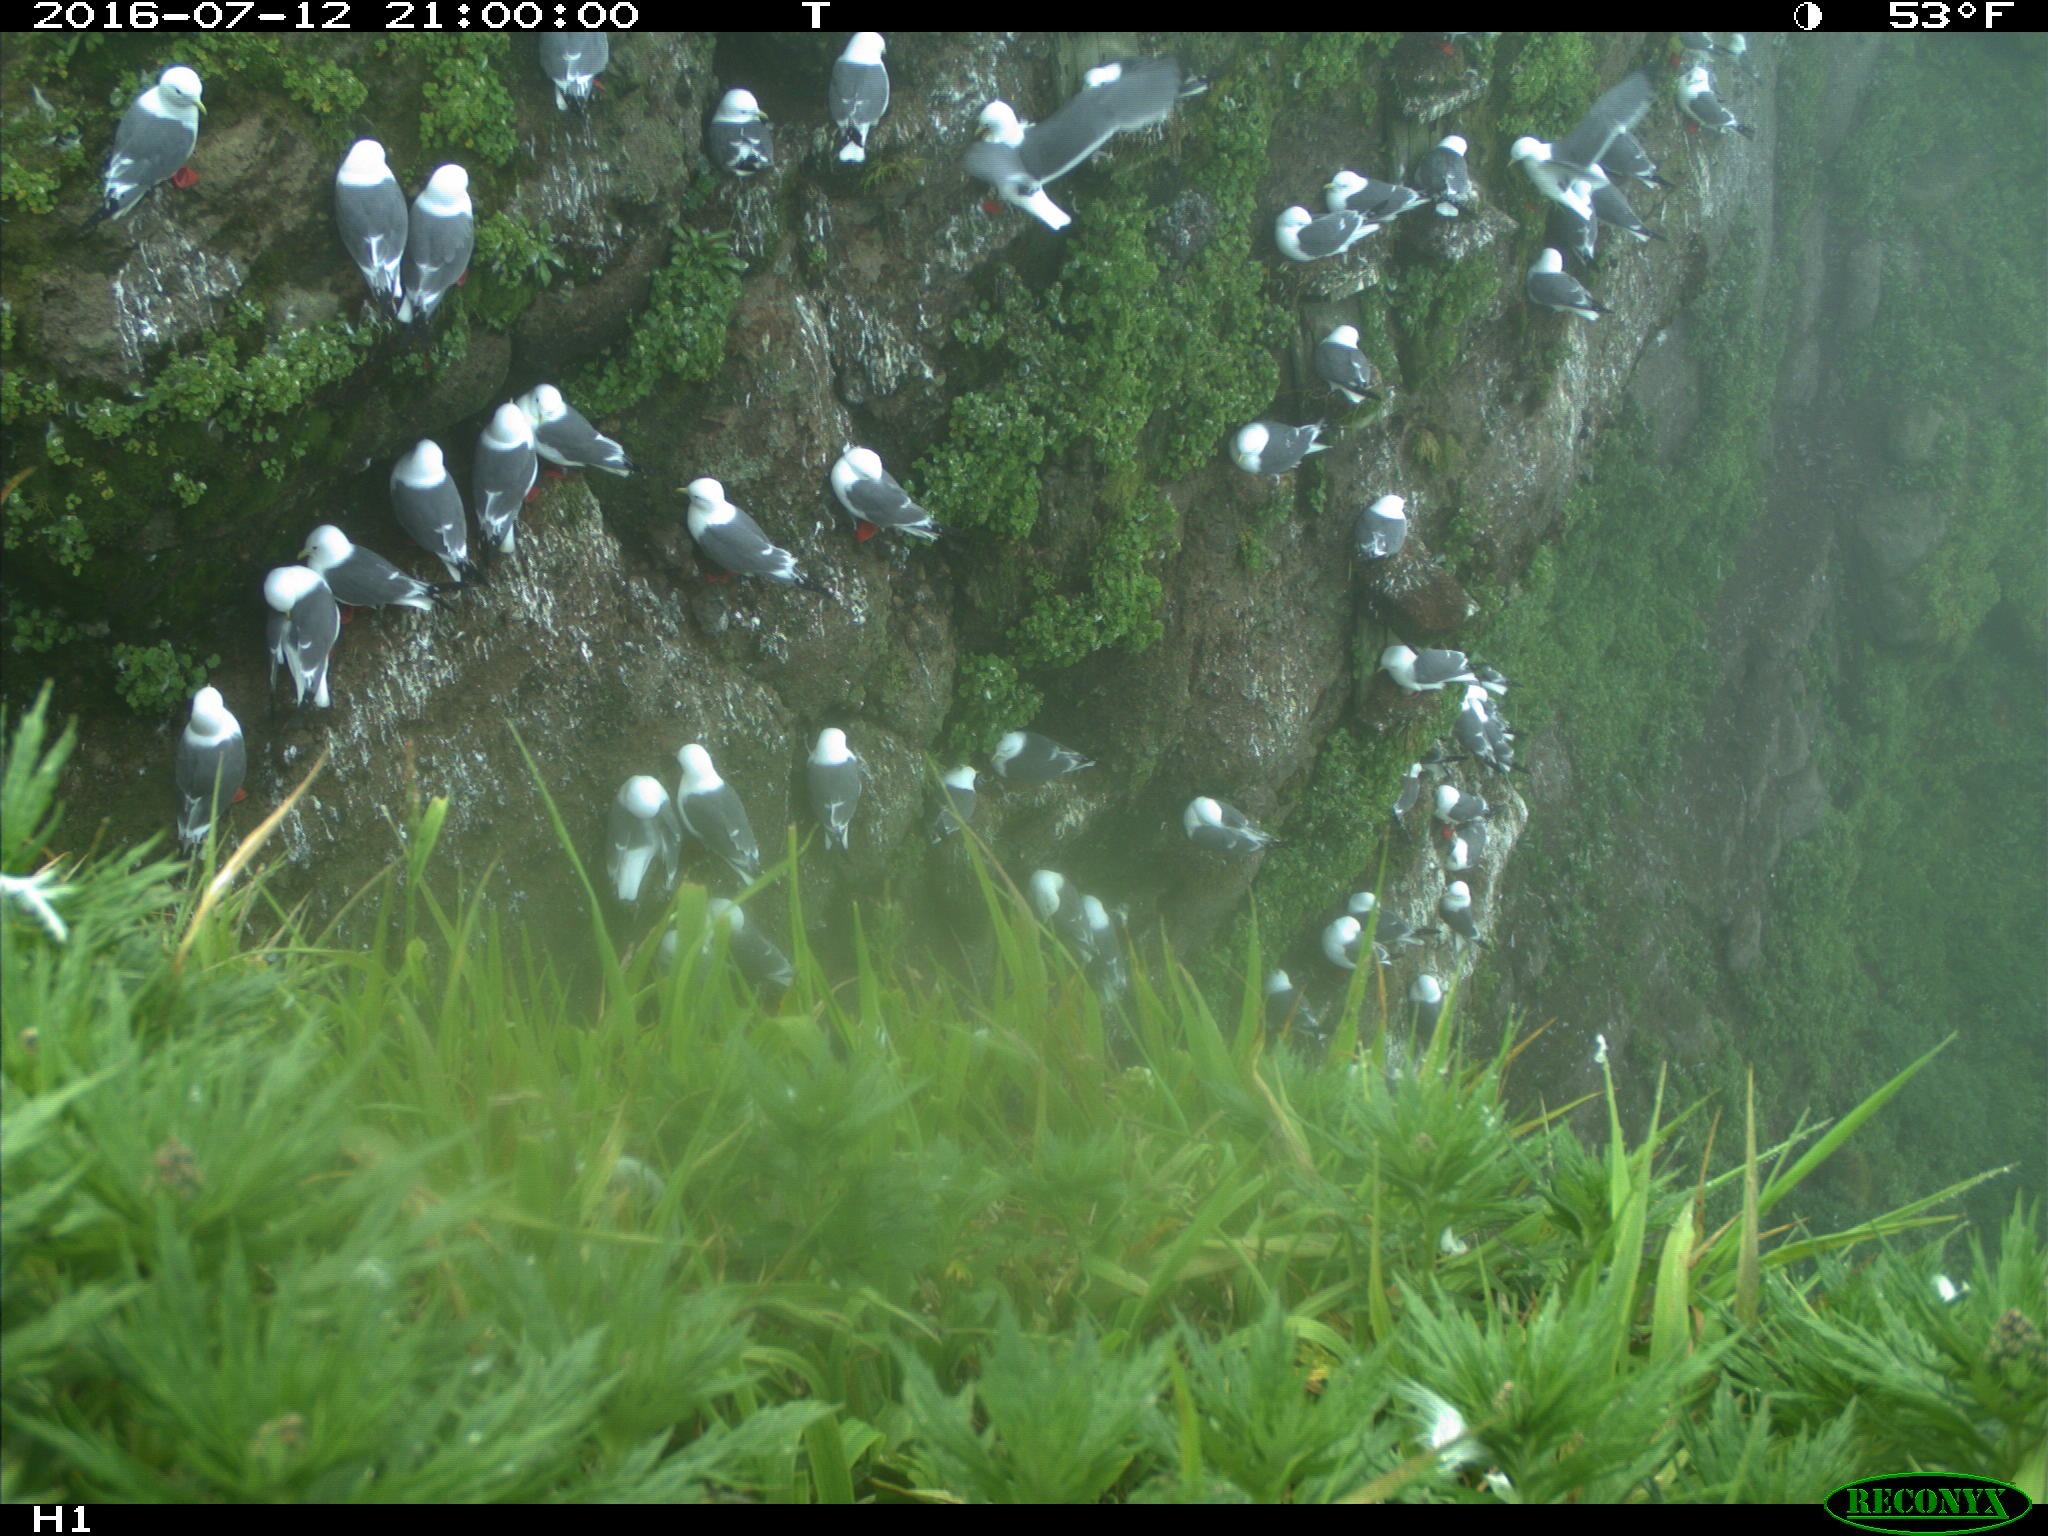Kittiwake: (947, 40, 1213, 232), (1505, 60, 1692, 257), (61, 52, 229, 252), (295, 103, 419, 328), (660, 463, 830, 613), (158, 671, 258, 895), (229, 542, 352, 721), (287, 508, 461, 634), (514, 353, 643, 521), (373, 416, 484, 600), (668, 729, 792, 892), (397, 137, 495, 329), (776, 708, 885, 868), (822, 429, 955, 561), (464, 384, 550, 579), (810, 31, 908, 190), (685, 53, 792, 192), (1159, 771, 1293, 878), (598, 762, 681, 916), (1230, 950, 1356, 1050), (1413, 97, 1493, 236), (1297, 295, 1397, 407), (1447, 687, 1546, 799), (969, 705, 1105, 786), (1016, 850, 1093, 989), (919, 747, 997, 886), (1213, 415, 1350, 490), (1321, 855, 1434, 947), (1263, 186, 1384, 271), (1363, 623, 1500, 697), (1664, 58, 1771, 153), (1317, 152, 1434, 239), (1300, 905, 1413, 992), (513, 31, 639, 108), (1521, 242, 1622, 337), (1409, 758, 1521, 842), (1342, 474, 1416, 586), (1434, 858, 1505, 963), (1082, 878, 1137, 1005), (1388, 963, 1471, 1034), (1388, 745, 1434, 833), (1430, 829, 1505, 871)
